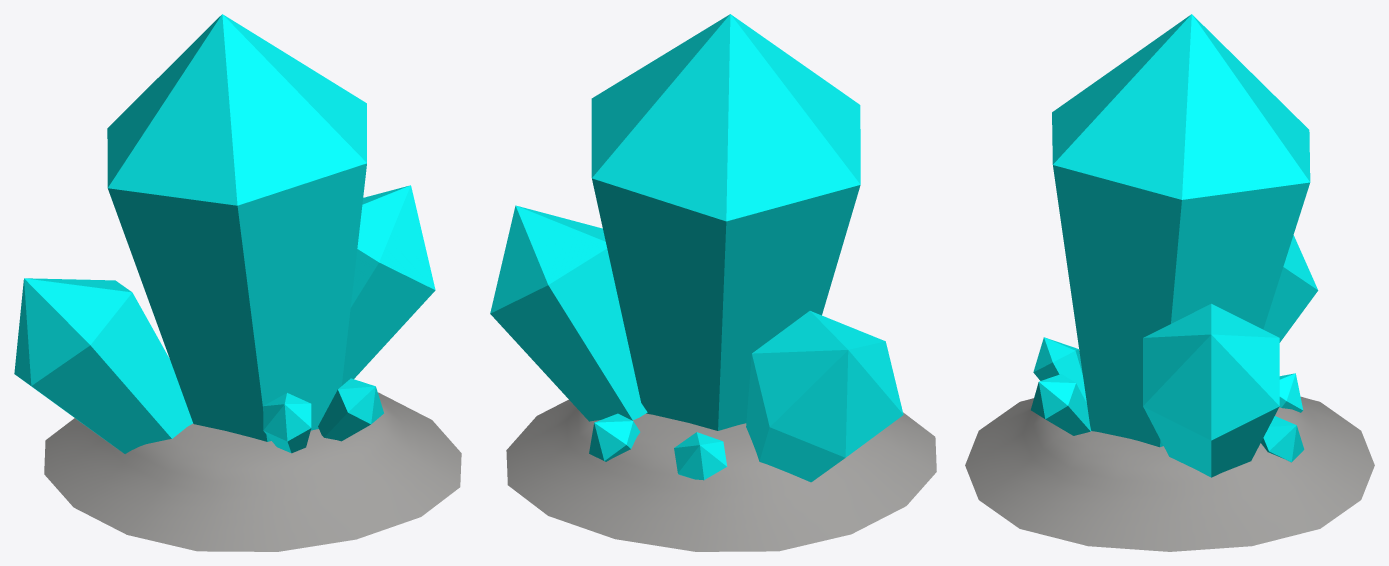
The model's file is BlueGlowCrystal.fbx.
The picture shows the model from 3 angles, left to right: view 1: azimuth 30°, elevation 25°; view 2: azimuth 150°, elevation 25°; view 3: azimuth 270°, elevation 25°; orthographic projection. The views are drawn at different scales.
Visible parts, largest first — view 1: pCylinder1, pCube1, pCylinder3, pCylinder2, pCylinder4, pCylinder5; view 2: pCylinder1, pCube1, pCylinder2, pCylinder3, pCylinder7, pCylinder6; view 3: pCylinder1, pCube1, pCylinder2, pCylinder3, pCylinder4, pCylinder5, pCylinder6, pCylinder7.
Boxes of the visible parts, x1,y1,x2,y2 form: pCylinder1: (107, 14, 366, 441); pCube1: (44, 392, 461, 551); pCylinder3: (14, 278, 192, 453); pCylinder2: (341, 185, 435, 385); pCylinder4: (318, 378, 383, 441); pCylinder5: (263, 393, 311, 453); pCylinder1: (591, 14, 860, 430); pCube1: (506, 399, 936, 551); pCylinder2: (490, 205, 647, 421); pCylinder3: (746, 311, 903, 482); pCylinder7: (674, 432, 727, 480); pCylinder6: (589, 413, 640, 461); pCylinder1: (1052, 14, 1310, 447); pCube1: (965, 396, 1374, 551); pCylinder2: (1143, 303, 1279, 477); pCylinder3: (1263, 235, 1318, 342); pCylinder4: (1031, 374, 1091, 435); pCylinder5: (1033, 337, 1086, 402); pCylinder6: (1261, 416, 1304, 462); pCylinder7: (1279, 373, 1303, 412).
Bounding box in the file's own units: 3.04 × 3.27 × 2.75.
